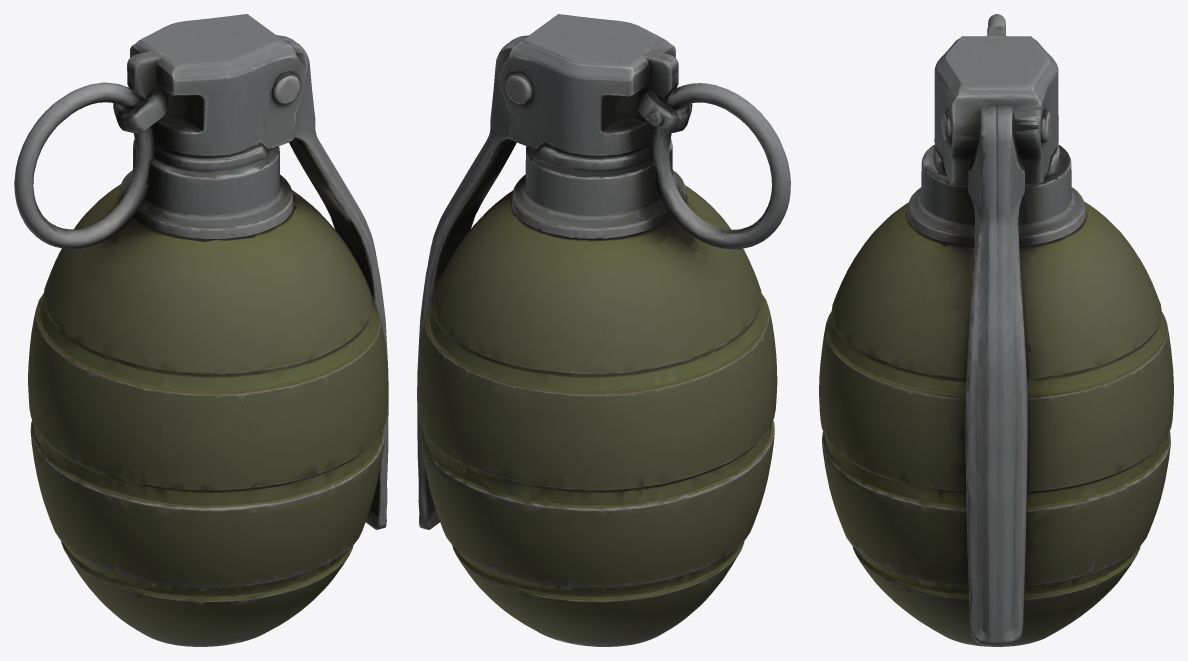
File: Asset_03_LOD0.fbx
3 views of the same model, side by side, from view 1: azimuth 30°, elevation 25°; view 2: azimuth 150°, elevation 25°; view 3: azimuth 270°, elevation 25° (orthographic). The views are drawn at different scales.
Visible parts, largest first — view 1: Asset_03_LOD0; view 2: Asset_03_LOD0; view 3: Asset_03_LOD0.
Part boxes in pixels (<box>): Asset_03_LOD0: <box>14,14,388,646</box>; Asset_03_LOD0: <box>417,14,790,646</box>; Asset_03_LOD0: <box>819,14,1173,646</box>.
Bounding box in the file's own units: 0.0768 × 0.115 × 0.0663.
Materials: 1 (1 with a texture image).
